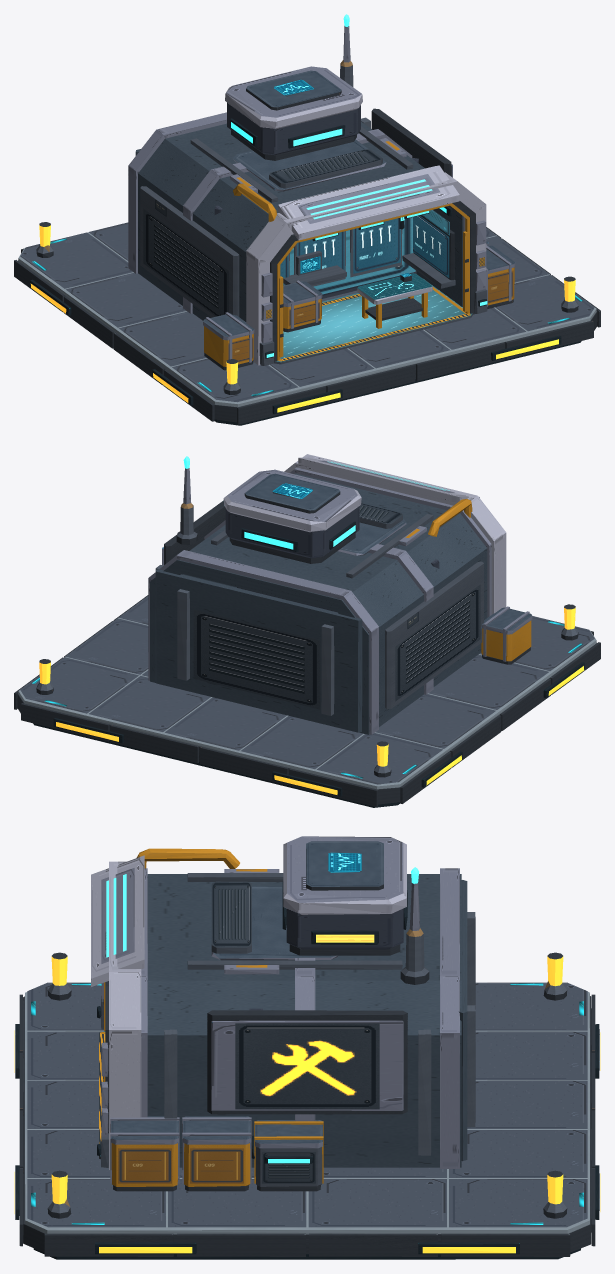
Rendered from TO01_TallerBasico_Distancia.fbx.
3 views of the same model, one above another, from view 1: azimuth 30°, elevation 25°; view 2: azimuth 150°, elevation 25°; view 3: azimuth 270°, elevation 25° (orthographic). The views are drawn at different scales.
Parts seen in each view (by area): view 1: TallerDeObrasDistante_1; view 2: TallerDeObrasDistante_1; view 3: TallerDeObrasDistante_1.
Boxes of the visible parts, x1,y1,x2,y2 form: TallerDeObrasDistante_1: (14, 14, 600, 425); TallerDeObrasDistante_1: (14, 454, 600, 807); TallerDeObrasDistante_1: (14, 836, 600, 1259).
Bounding box in the file's own units: 5.89 × 3.48 × 5.71.
